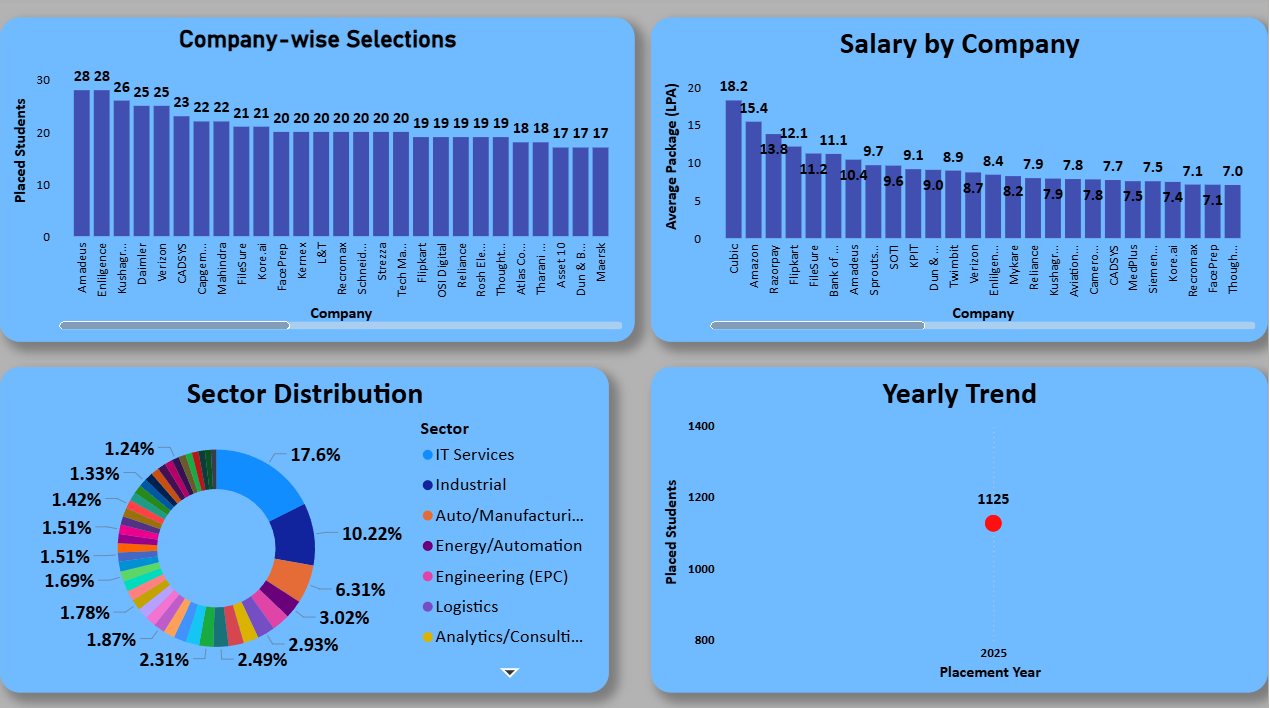

What the dashboard file says about the page in this screenshot:
{"tool":"powerbi","page":{"name":"Page 2","canvas":[1280,720],"ordinal":1},"visuals":[{"type":"clusteredColumnChart","title":"Company-wise Selections","fields":{"Category":["Sheet1.Company"],"Y":["Sum(Sheet1.Placed Students 1)"]},"box":[0,22.7,640.5,327.1],"z":0},{"type":"donutChart","title":"Sector Distribution","fields":{"Category":["Sheet1.Sector"],"Y":["Sum(Sheet1.Placed Students 1)"]},"box":[0,375.5,614.8,328.6],"z":1000},{"type":"clusteredColumnChart","title":"Salary by Company","fields":{"Category":["Sheet1.Company"],"Y":["Sheet1.Average Package (LPA)"]},"box":[657.2,22.7,622.3,327.1],"z":2000},{"type":"lineChart","title":"Yearly Trend","fields":{"Category":["Sheet1.Placement_Year"],"Y":["Sum(Sheet1.Placed Students 1)"]},"box":[657.2,375.5,622.3,328.6],"z":3000}]}

Visuals, with their boxes in screenshot pixels (x1, y1, x2, y2), scaled from the page's 1280x720 canvas onto the 1270x708 screenshot:
"Company-wise Selections" clusteredColumnChart: Rect(0, 22, 635, 344)
"Sector Distribution" donutChart: Rect(0, 369, 610, 692)
"Salary by Company" clusteredColumnChart: Rect(652, 22, 1269, 344)
"Yearly Trend" lineChart: Rect(652, 369, 1269, 692)
